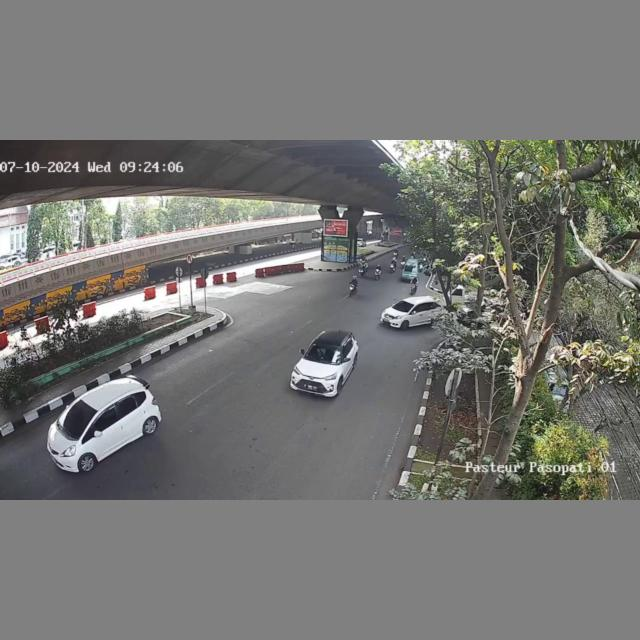windshield: (57, 400, 96, 437), (305, 343, 344, 366), (391, 300, 414, 313)
